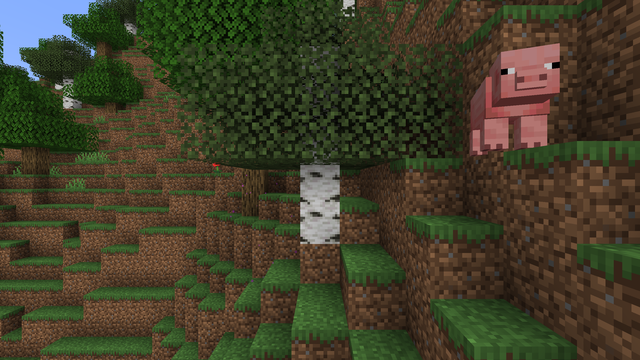cochons: (453, 72, 568, 155)
